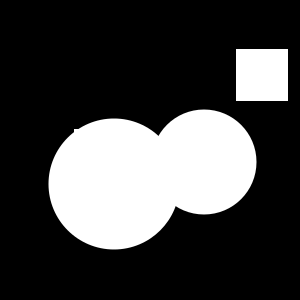circle: (236, 49, 288, 101), (74, 129, 118, 173)
rectangle: (49, 118, 180, 249), (152, 110, 256, 215), (96, 192, 132, 228)
